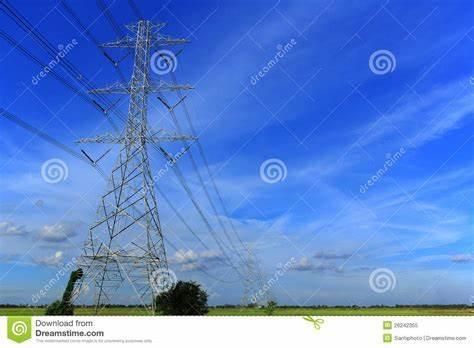power_tower: (67, 19, 191, 313)
